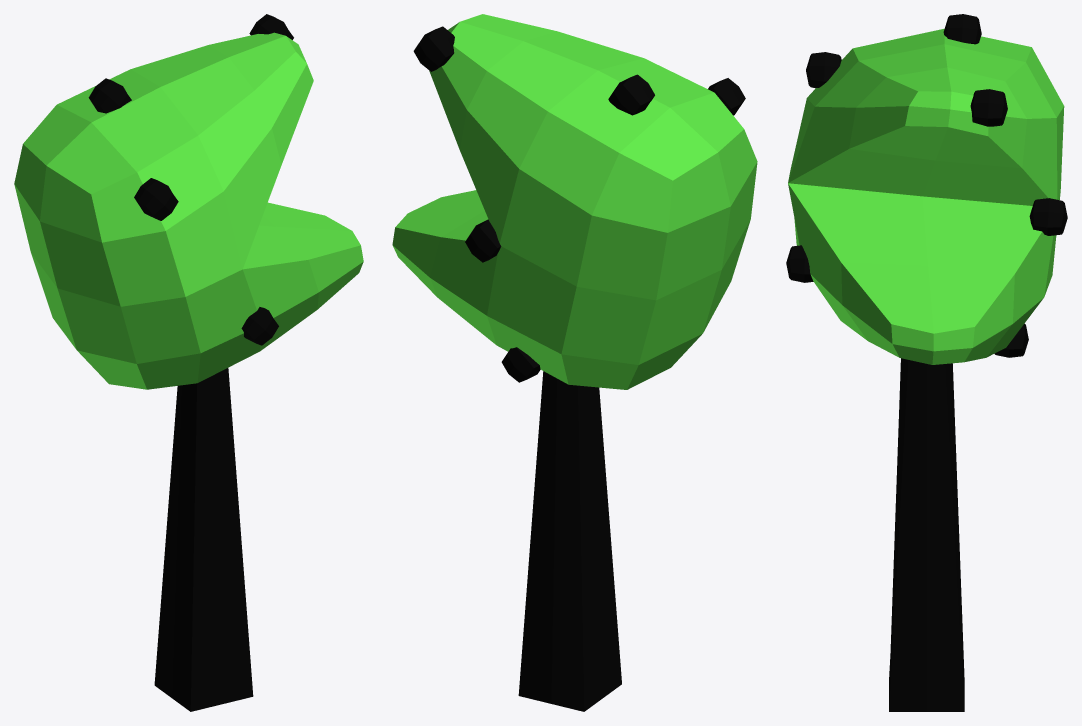
Rendered from Arbre 2.fbx.
3 views of the same model, side by side, from view 1: azimuth 30°, elevation 25°; view 2: azimuth 150°, elevation 25°; view 3: azimuth 270°, elevation 25° (orthographic). The views are drawn at different scales.
Visible parts, largest first — view 1: arbre 2; view 2: arbre 2; view 3: arbre 2.
Boxes of the visible parts, <box> form: arbre 2: <box>14,14,363,711</box>; arbre 2: <box>392,14,757,711</box>; arbre 2: <box>786,14,1067,711</box>.
Size of the model in its own units: 622 by 1191 by 462.
